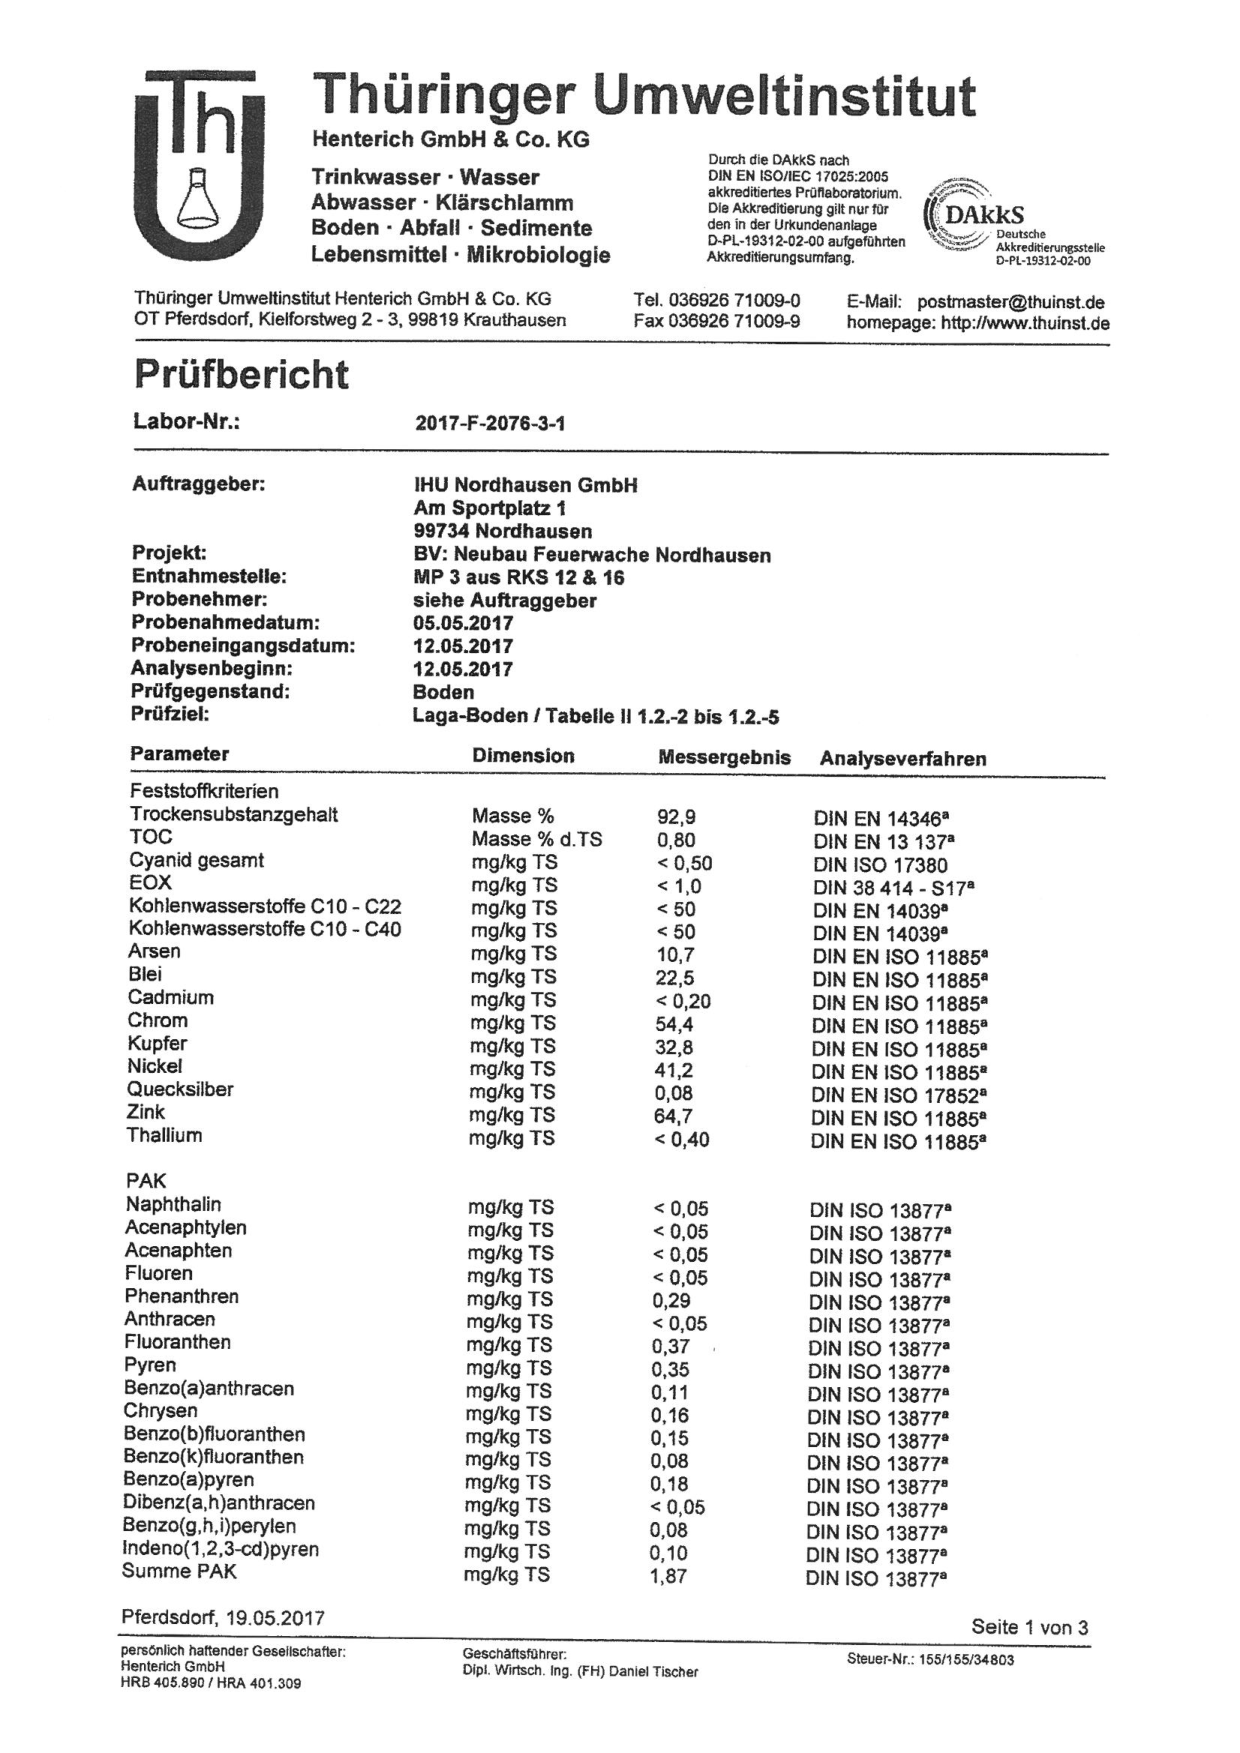table: (113, 738, 1080, 1158), (107, 1166, 973, 1599), (99, 454, 823, 736)
